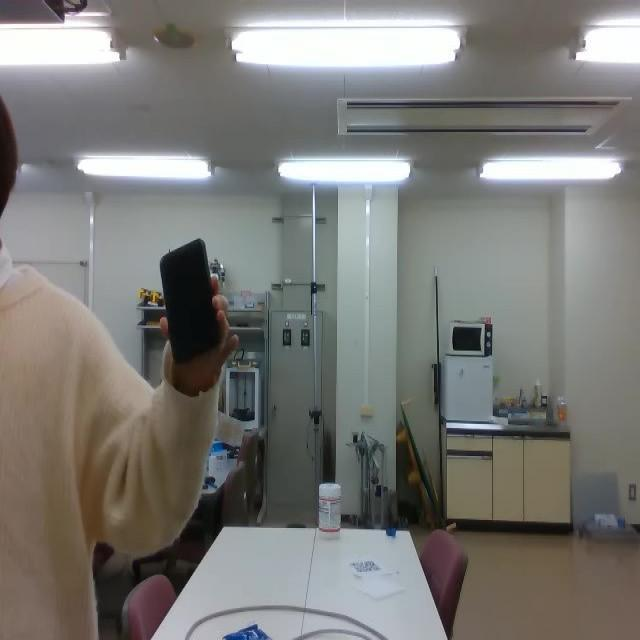Phone: (158, 234, 222, 366)
